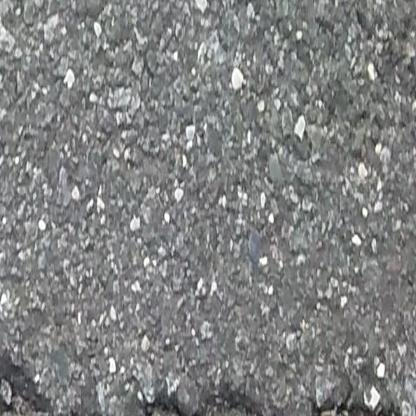Cracks: (0, 354, 416, 416)
